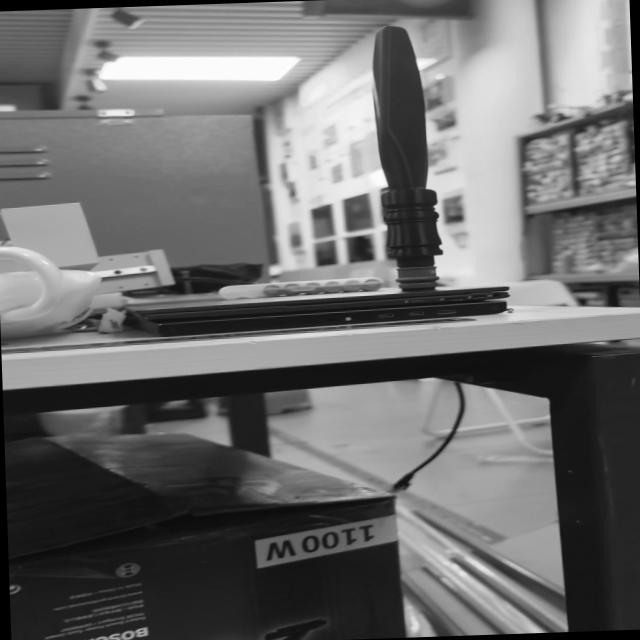base: (392, 266, 446, 300)
